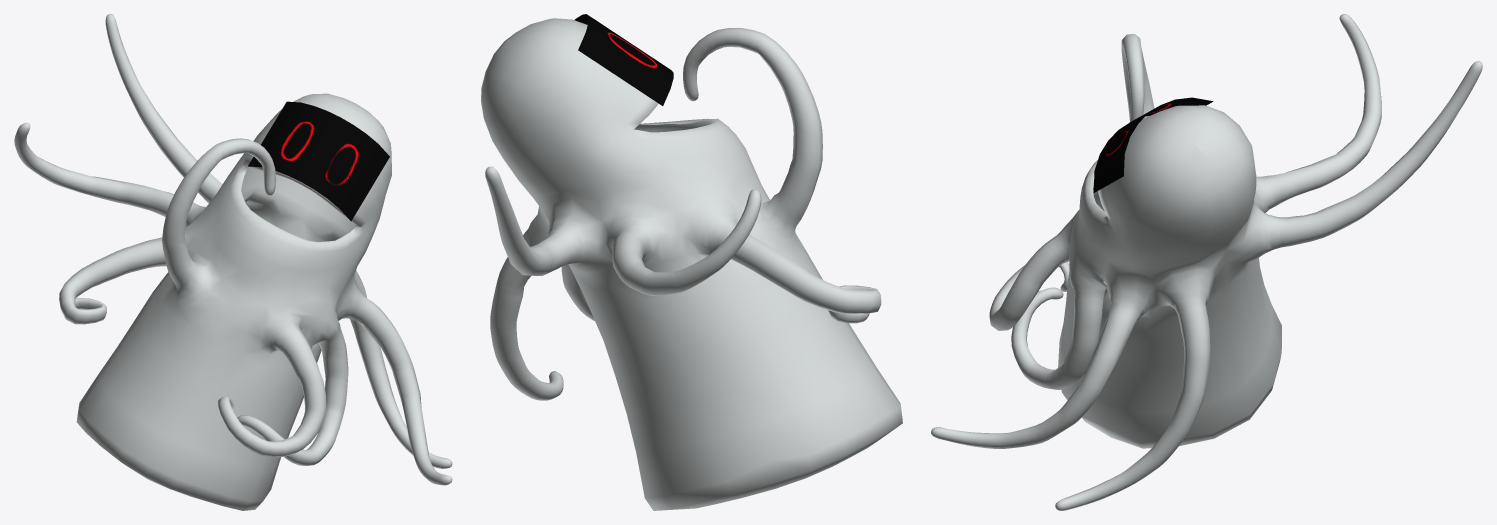
File: TamagotchiKoralj_Test-Eating-002.fbx
The picture shows the model from 3 angles, left to right: view 1: azimuth 30°, elevation 25°; view 2: azimuth 150°, elevation 25°; view 3: azimuth 270°, elevation 25°; orthographic projection. The views are drawn at different scales.
Parts seen in each view (by area): view 1: Koralj-Body.001, Koralj-EyePlane.001; view 2: Koralj-Body.001, Koralj-EyePlane.001; view 3: Koralj-Body.001, Koralj-EyePlane.001.
Part boxes in pixels (bbox=[...]): Koralj-Body.001: bbox=[14, 14, 452, 510]; Koralj-EyePlane.001: bbox=[248, 101, 389, 221]; Koralj-Body.001: bbox=[481, 18, 902, 510]; Koralj-EyePlane.001: bbox=[574, 14, 673, 105]; Koralj-Body.001: bbox=[931, 14, 1482, 510]; Koralj-EyePlane.001: bbox=[1093, 97, 1213, 192].
Bounding box in the file's own units: 177 × 190 × 243.
